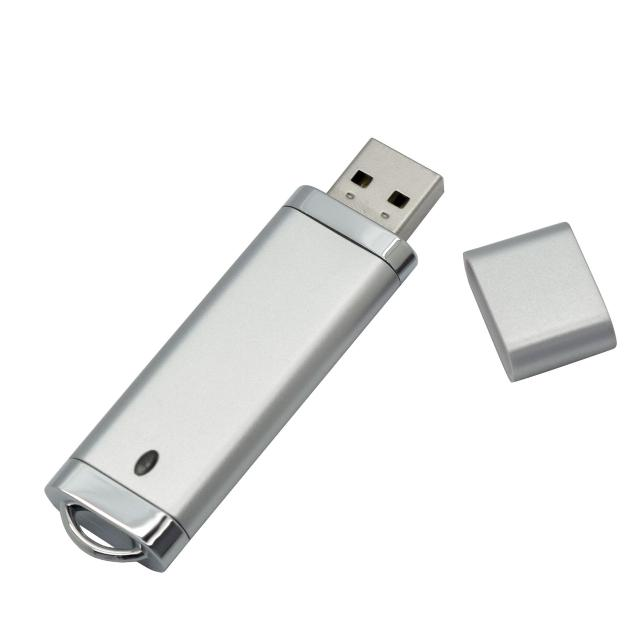USB-Flash-Drive: (37, 122, 456, 588)
